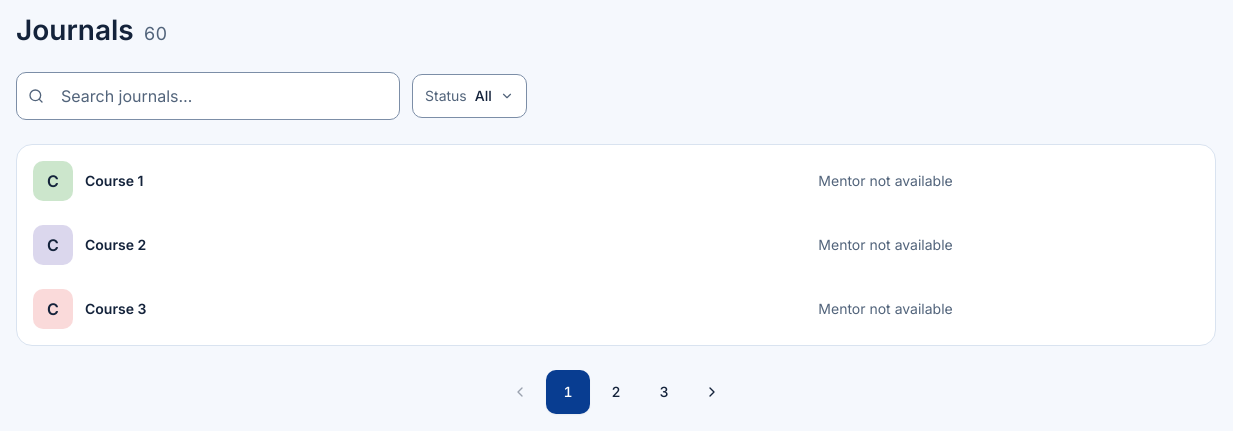
Test: Journals hub › labels search as loaded-page scope because the endpoint has no text search
Expected: the text "Course 1" is shown, [85,171,143,191]
Expected: the heading reads "Journals", [16,13,134,47]
Type "course 2" into the field.
click(208, 96); type("course 2")  # box [16,72,400,120]
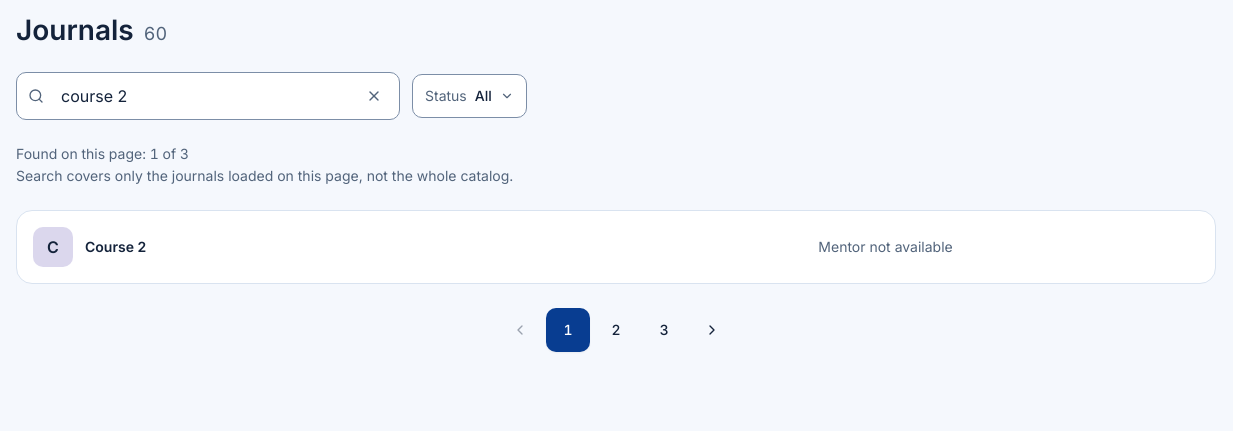
Expected: the text "Found on this page: 1 of 3" is shown, [16,145,189,162]
Expected: the text "not the whole catalog" is shown, [16,167,513,184]
